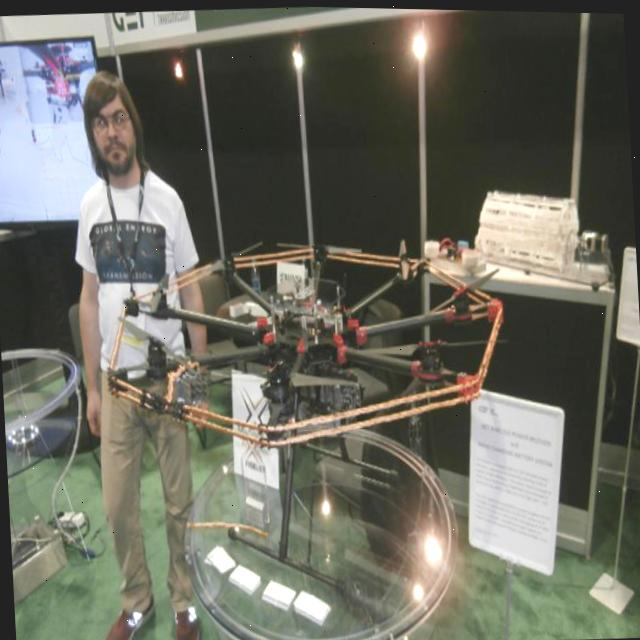drone: (112, 198, 510, 453)
